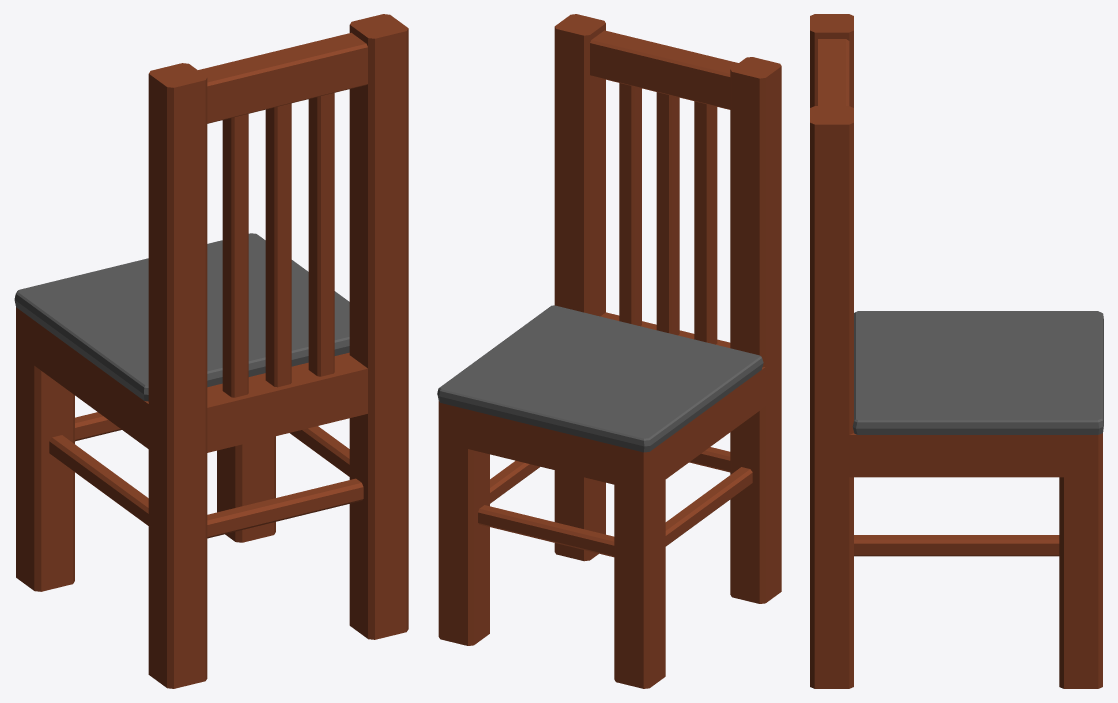
The model's file is Silla02.fbx.
3 views of the same model, side by side, from view 1: azimuth 30°, elevation 25°; view 2: azimuth 150°, elevation 25°; view 3: azimuth 270°, elevation 25° (orthographic). The views are drawn at different scales.
Visible parts, largest first — view 1: Silla02; view 2: Silla02; view 3: Silla02.
Boxes of the visible parts, bbox=[...] form: Silla02: bbox=[14, 14, 408, 688]; Silla02: bbox=[437, 14, 781, 688]; Silla02: bbox=[810, 14, 1103, 688].
Bounding box in the file's own units: 42.45 × 100 × 47.17.
